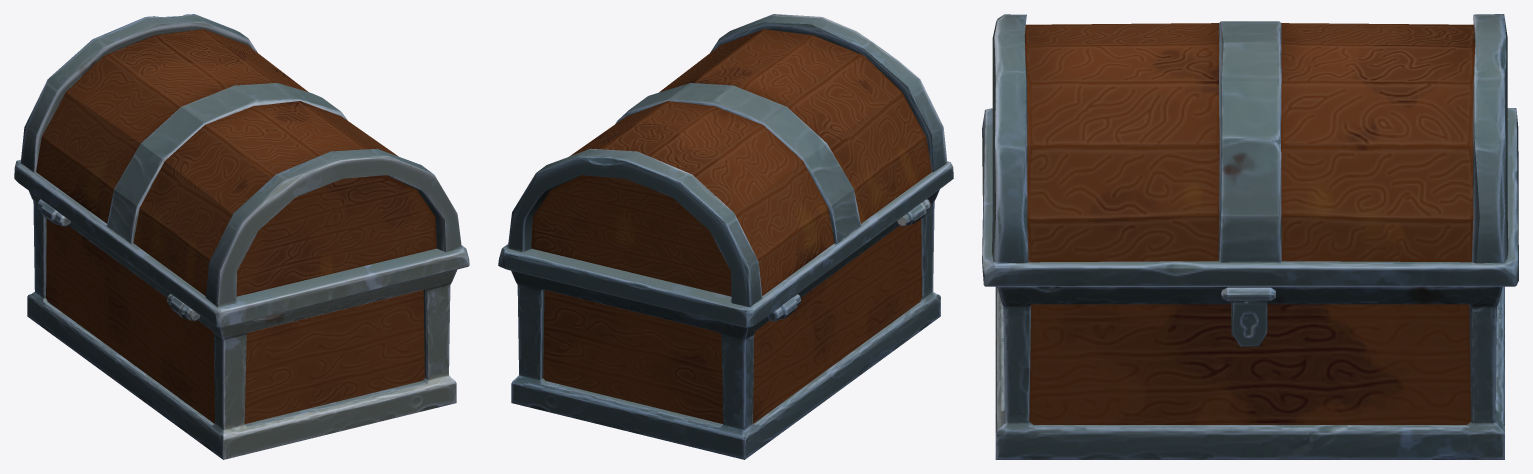
The picture shows the model from 3 angles, left to right: view 1: azimuth 30°, elevation 25°; view 2: azimuth 150°, elevation 25°; view 3: azimuth 270°, elevation 25°; orthographic projection. The views are drawn at different scales.
Parts seen in each view (by area): view 1: Up_Chest_low, Down_Chest_low, Zasov_low; view 2: Up_Chest_low, Down_Chest_low, Zasov_low; view 3: Up_Chest_low, Down_Chest_low, Zamok_low.
Part boxes in pixels (x1,y1,x2,y2): Up_Chest_low: [14, 14, 469, 327]; Down_Chest_low: [27, 191, 457, 459]; Zasov_low: [37, 199, 200, 321]; Up_Chest_low: [498, 14, 953, 327]; Down_Chest_low: [511, 189, 940, 459]; Zasov_low: [767, 199, 930, 321]; Up_Chest_low: [982, 14, 1518, 286]; Down_Chest_low: [995, 286, 1504, 459]; Zamok_low: [1221, 287, 1275, 346].
Bounding box in the file's own units: 2.35 × 2.35 × 3.25.
2 materials, 2 textured.
